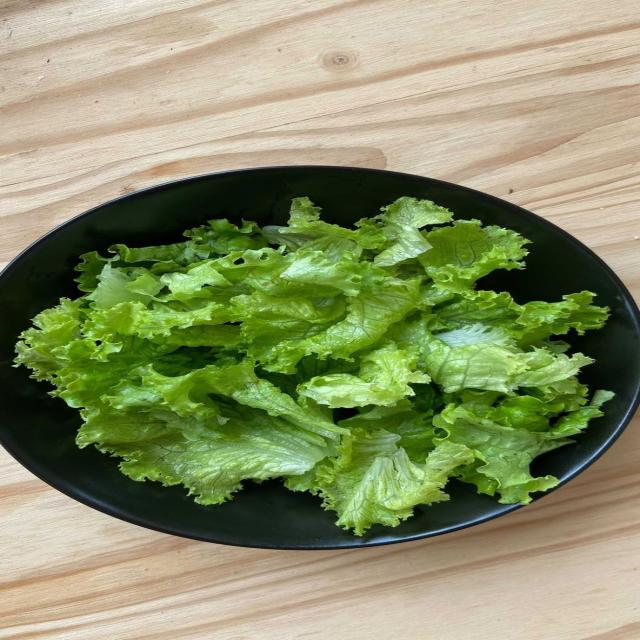lettuce: (17, 198, 611, 534)
